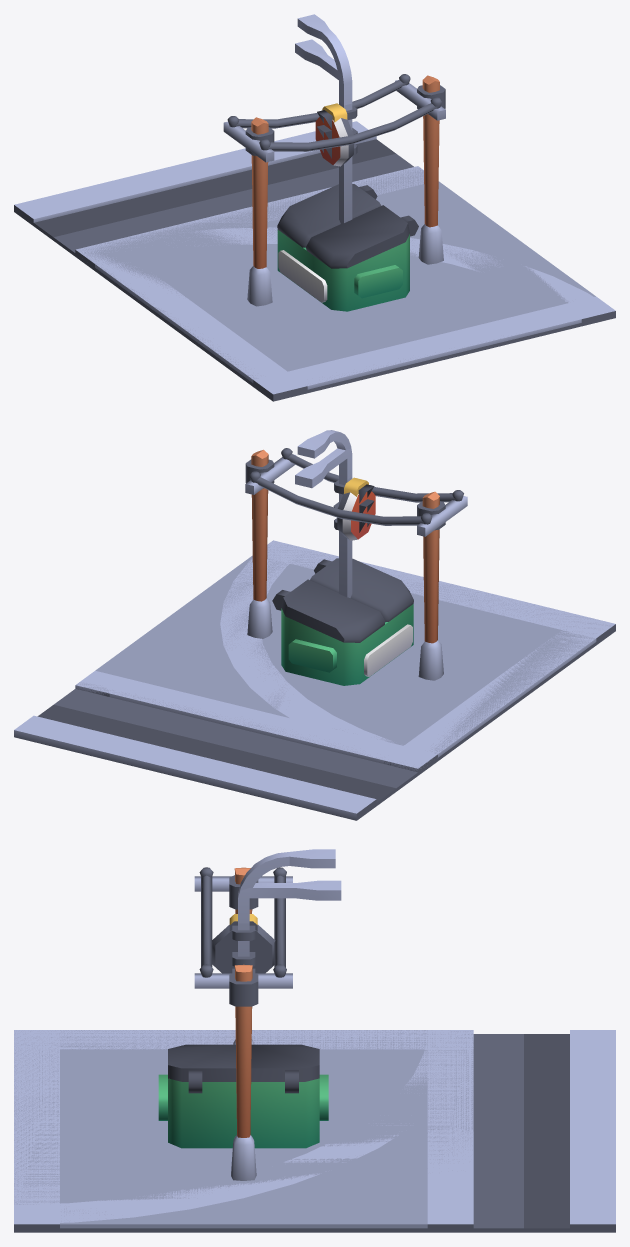
Rendered from roads.glb.
The picture shows the model from 3 angles, top to bottom: view 1: azimuth 30°, elevation 25°; view 2: azimuth 150°, elevation 25°; view 3: azimuth 270°, elevation 25°; orthographic projection. The views are drawn at different scales.
Visible parts, largest first — view 1: tile-low, road-side, electricity-pole, road-end, road-straight, dumpster, lid-right, road-intersection, lid-left, road-bend, traffic-light, light-curved (+3 smaller); view 2: tile-low, road-side, electricity-pole, road-straight, road-bend, road-intersection, dumpster, road-end, lid-left, lid-right, light-curved, traffic-light (+3 smaller); view 3: tile-low, road-side, road-straight, road-end, dumpster, electricity-pole, road-bend, road-intersection, lid-left, lid-right, road-sign-stop, light-square (+3 smaller).
Part boxes in pixels (x1,y1,x2,y2): tile-low: [78, 166, 595, 385]; road-side: [14, 121, 579, 401]; electricity-pole: [223, 74, 445, 306]; road-end: [78, 221, 603, 386]; road-straight: [76, 166, 608, 390]; dumpster: [277, 185, 418, 311]; lid-right: [306, 205, 409, 268]; road-intersection: [75, 171, 615, 401]; lid-left: [277, 184, 381, 247]; road-bend: [76, 227, 593, 391]; traffic-light: [317, 102, 357, 223]; light-curved: [297, 14, 352, 105]; tile-low: [76, 541, 610, 767]; road-side: [14, 624, 615, 820]; electricity-pole: [245, 448, 467, 680]; road-straight: [75, 540, 615, 772]; road-bend: [220, 540, 614, 768]; road-intersection: [75, 543, 437, 770]; dumpster: [272, 559, 413, 685]; road-end: [268, 544, 611, 768]; lid-left: [281, 579, 385, 642]; lid-right: [310, 558, 413, 621]; light-curved: [297, 430, 352, 597]; traffic-light: [334, 476, 374, 597]; tile-low: [14, 1030, 473, 1228]; road-side: [14, 1030, 615, 1232]; road-straight: [14, 1030, 473, 1228]; road-end: [14, 1030, 472, 1204]; dumpster: [158, 1070, 328, 1148]; electricity-pole: [194, 867, 292, 1180]; road-bend: [14, 1030, 473, 1222]; road-intersection: [14, 1068, 473, 1228]; lid-left: [251, 1044, 319, 1081]; lid-right: [168, 1044, 236, 1081]; road-sign-stop: [212, 924, 275, 973]; light-square: [238, 880, 341, 923].
Size of the model in its own units: 1 by 0.675 by 1.31.
1 material, 1 textured.
